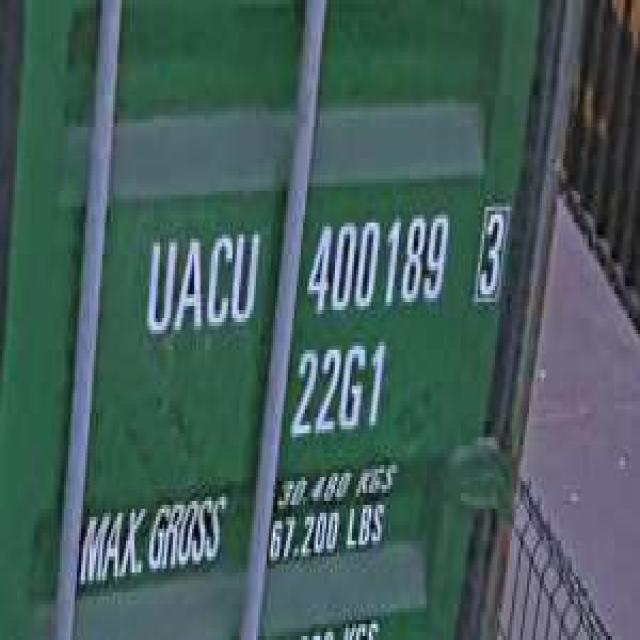dv: (469, 191, 508, 310)
owner: (139, 215, 262, 342)
serial: (301, 199, 450, 322)
size: (286, 334, 386, 445)
